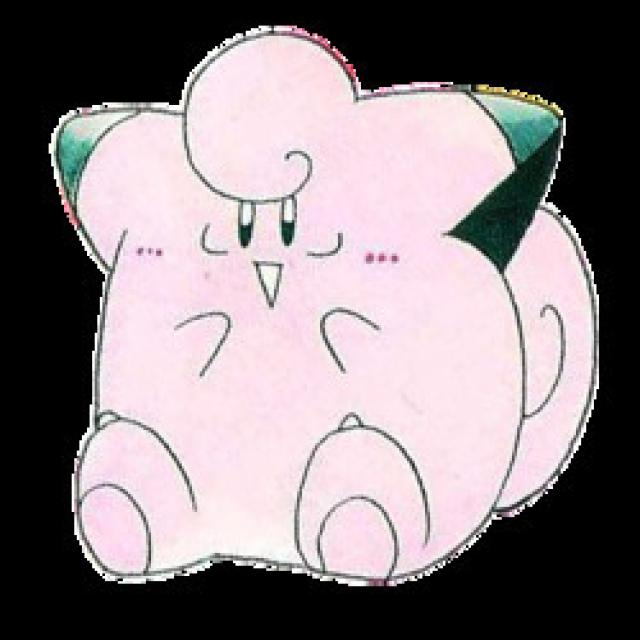Clefairy: (44, 23, 572, 581)
